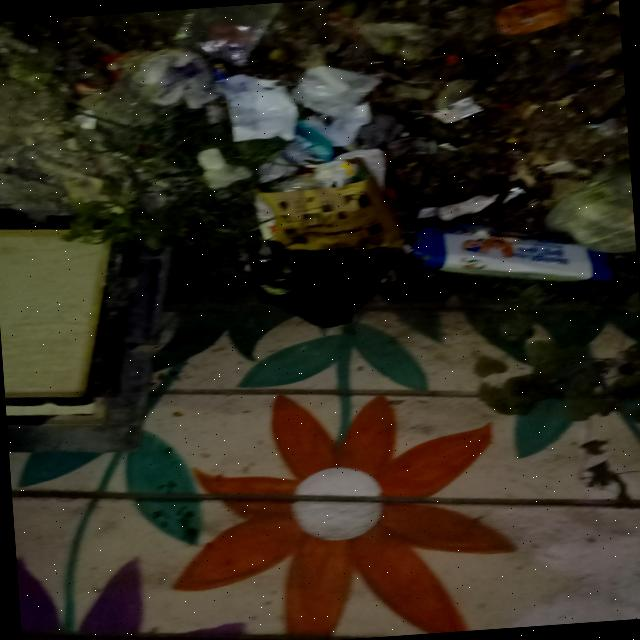garbage: (0, 0, 639, 349)
